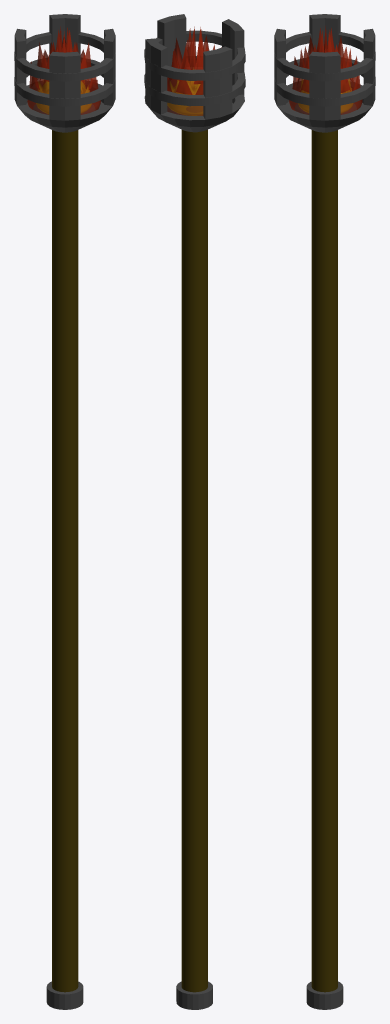
The model's file is Braizer Staff.fbx.
The picture shows the model from 3 angles, left to right: view 1: azimuth 90°, elevation 25°; view 2: azimuth 210°, elevation 25°; view 3: azimuth 270°, elevation 25°; orthographic projection.
Visible parts, largest first — view 1: pCylinder9, pasted__pPipe10, pSphere3, pPipe10, pSphere4; view 2: pCylinder9, pSphere3, pasted__pPipe10, pPipe10, pSphere4; view 3: pCylinder9, pSphere3, pasted__pPipe10, pPipe10.
Part boxes in pixels (<box>): pCylinder9: <box>14,14,115,1009</box>; pasted__pPipe10: <box>14,32,115,81</box>; pSphere3: <box>27,26,100,114</box>; pPipe10: <box>14,58,115,106</box>; pSphere4: <box>36,81,91,113</box>; pCylinder9: <box>144,14,244,1009</box>; pSphere3: <box>167,26,221,115</box>; pasted__pPipe10: <box>144,30,245,80</box>; pPipe10: <box>144,56,245,106</box>; pSphere4: <box>167,80,202,115</box>; pCylinder9: <box>274,14,375,1009</box>; pSphere3: <box>289,26,362,114</box>; pasted__pPipe10: <box>274,32,375,81</box>; pPipe10: <box>274,58,375,106</box>.
Size of the model in its own units: 0.8875 by 9.39 by 0.8875.
